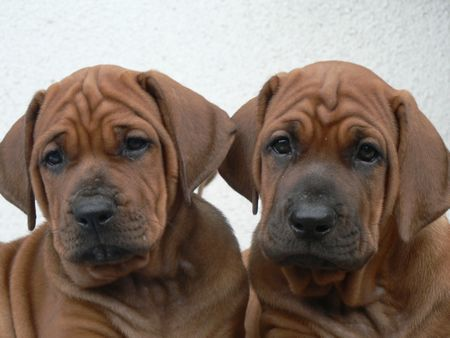tosa_inu: (0, 63, 250, 338), (215, 59, 450, 338)
